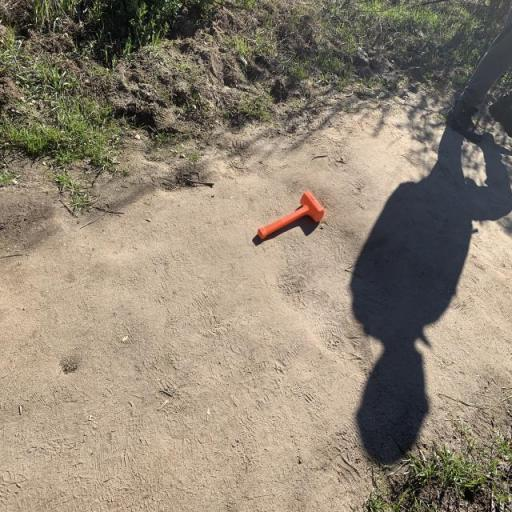mallet: (258, 190, 324, 240)
